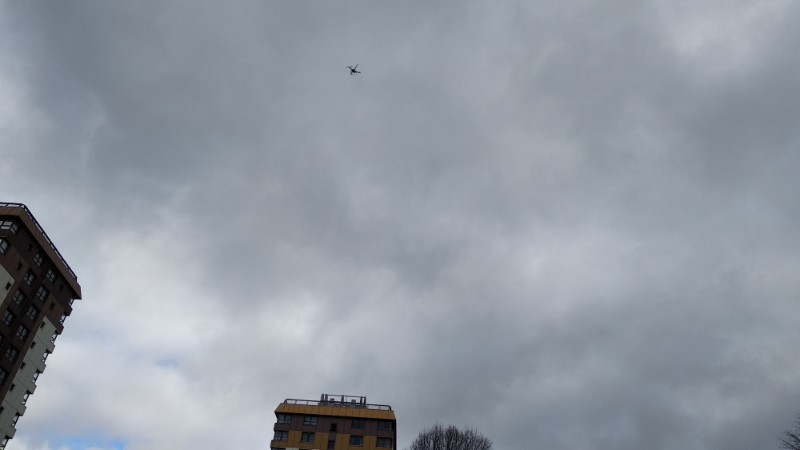drone: (347, 63, 361, 75)
